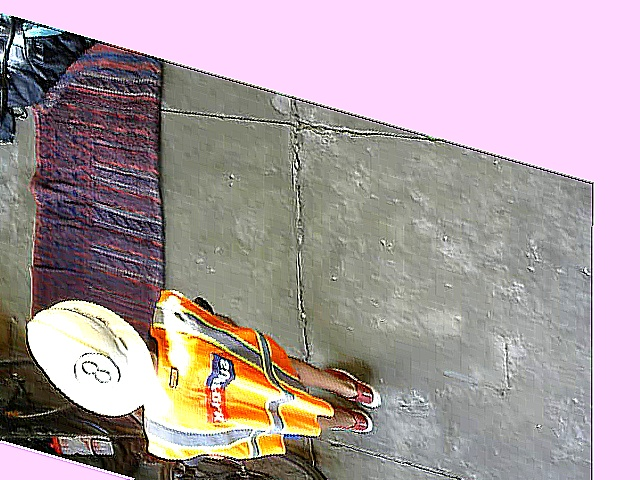eight: (71, 346, 120, 400)
